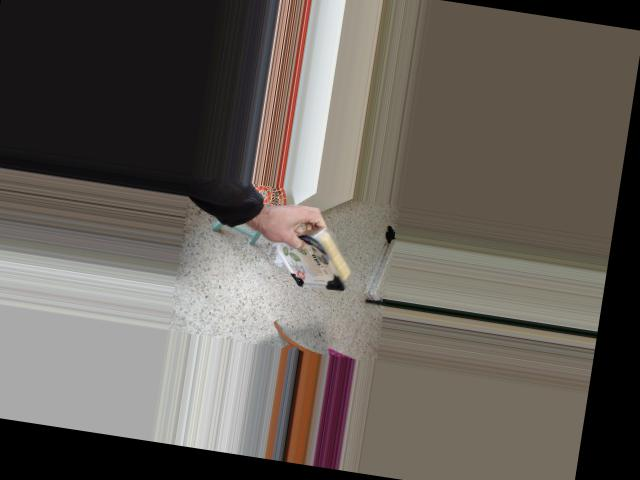cheese: (271, 197, 379, 320)
